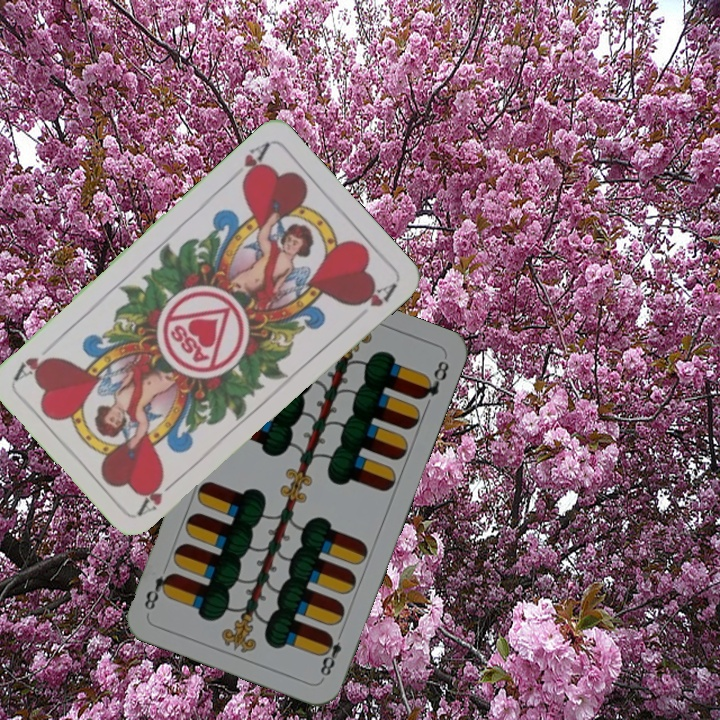E8: (315, 625, 346, 682)
HA: (225, 139, 272, 189), (134, 473, 183, 518)
